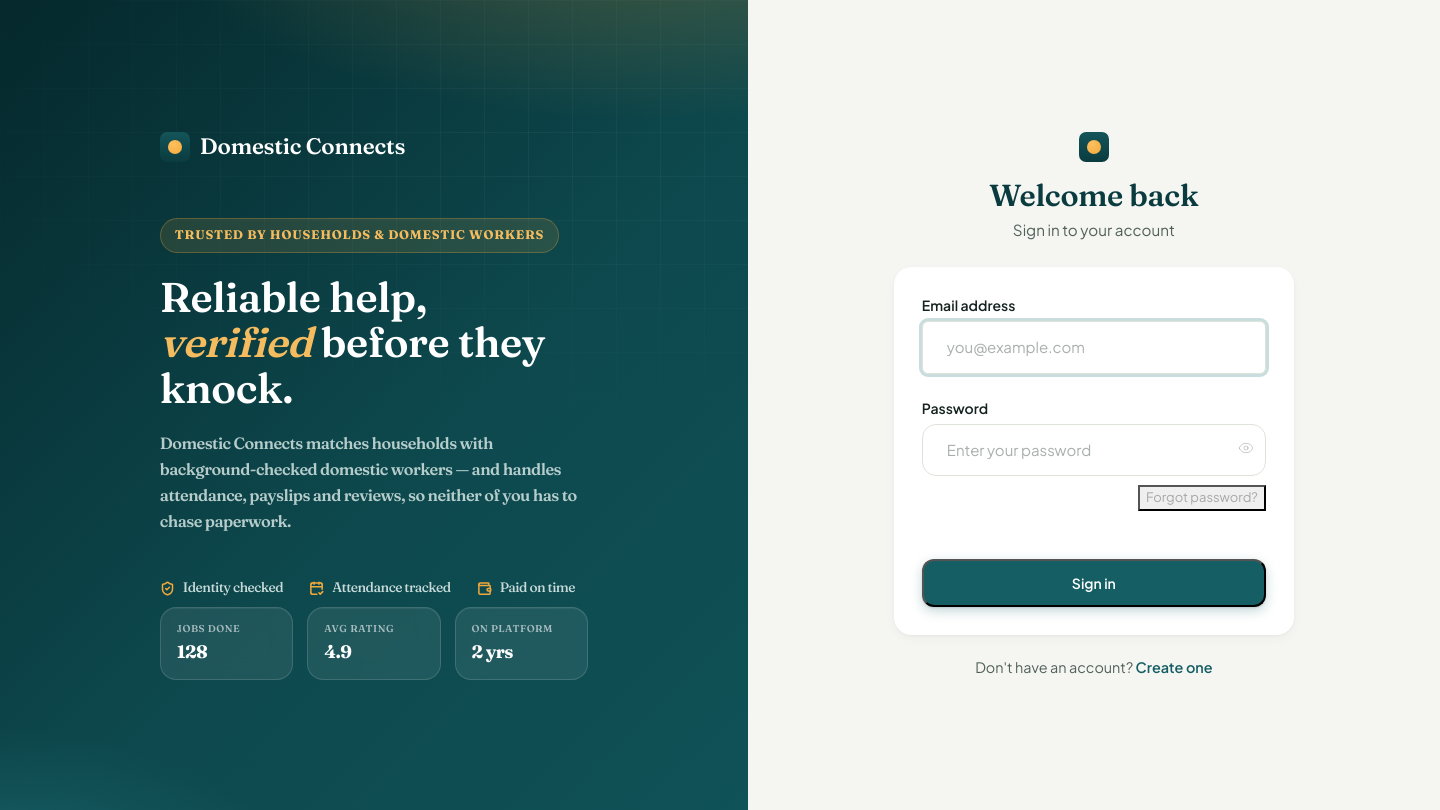
Test: Login › validation › clears a field error as soon as the user edits that field
Click the button "Sign in" at point(1094, 583), box [922,559,1266,607]
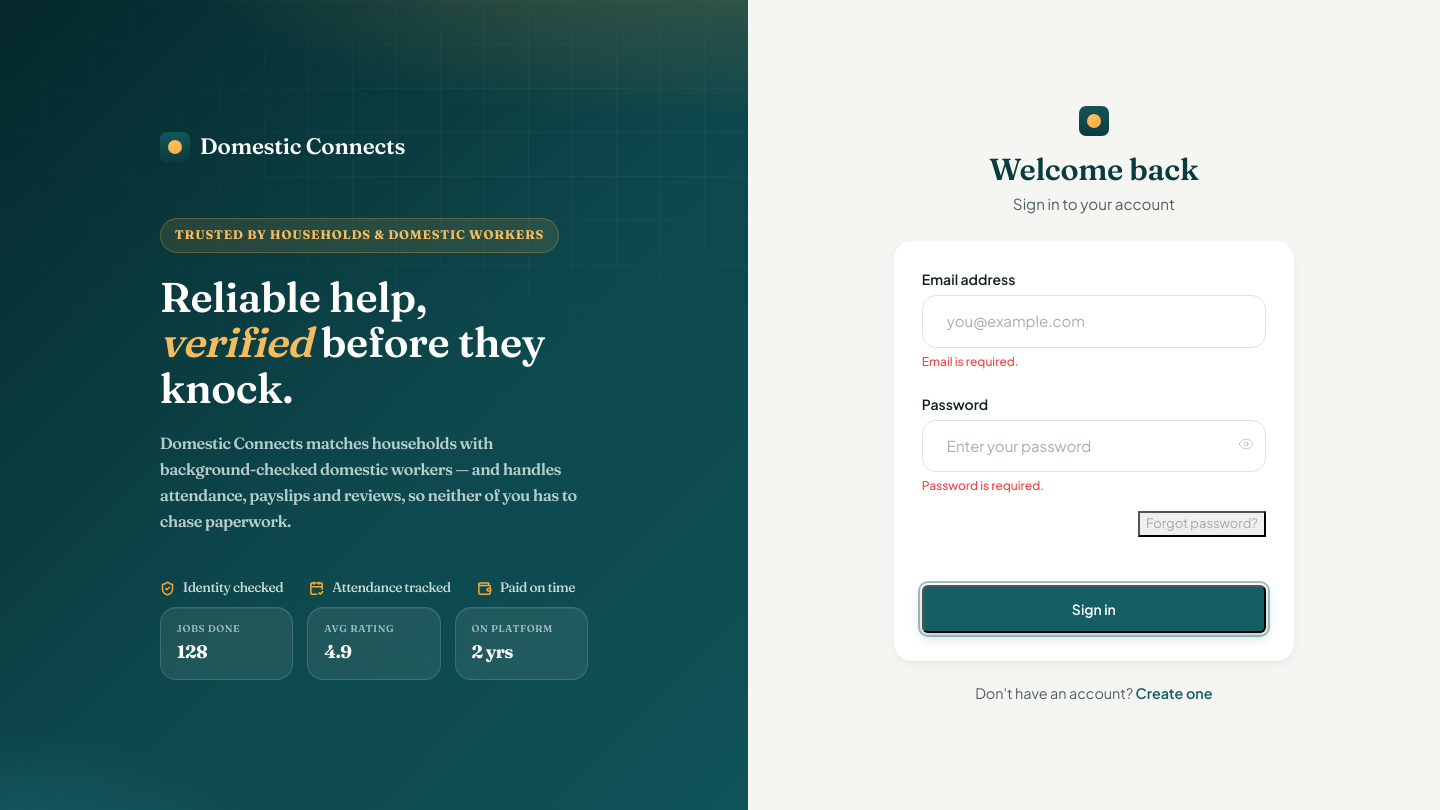
Result: the text "Email is required." is shown at [922,354,1019,369]
Type "a" into the field labelled "Email address" at point(1094, 322), box [922,295,1266,348]
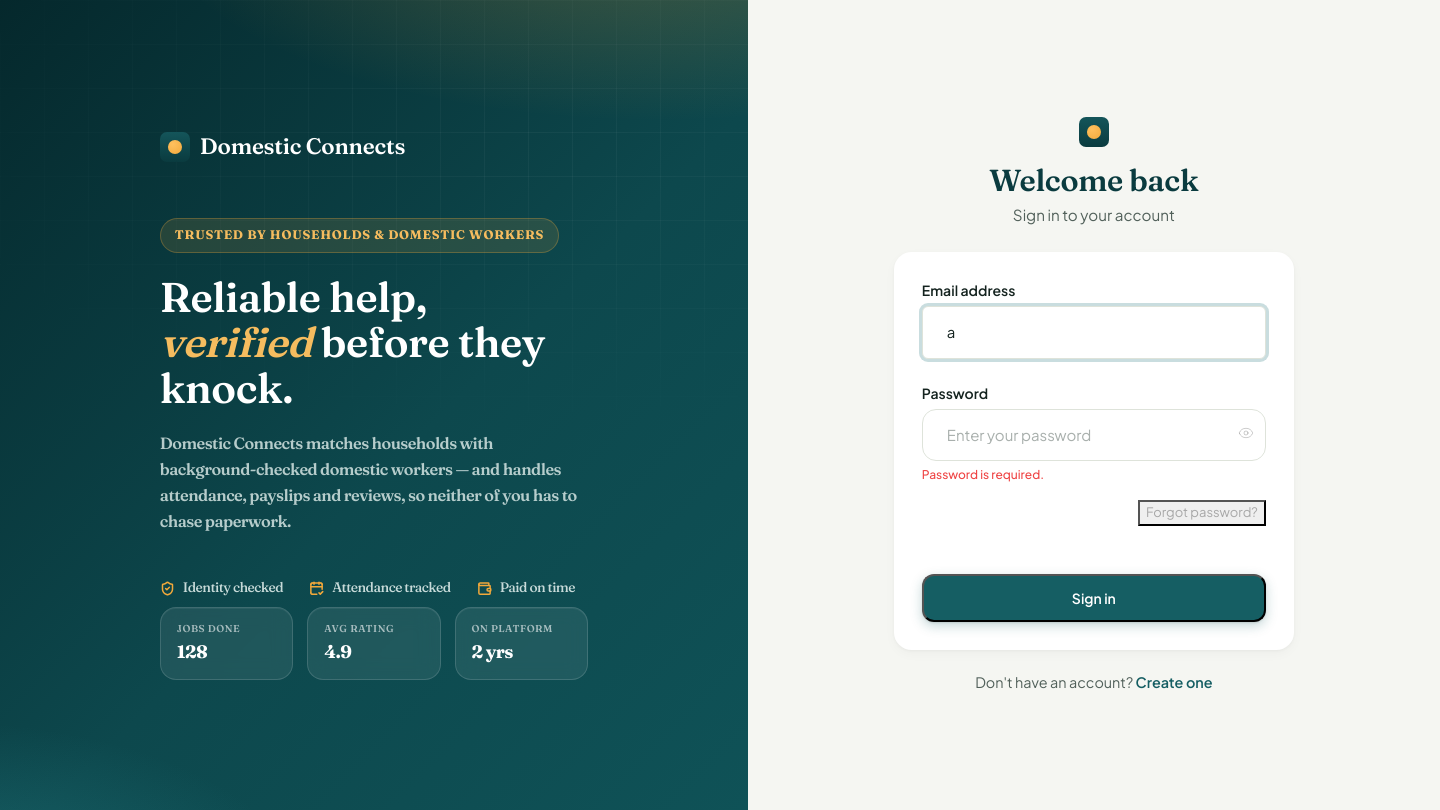
Result: the text "Email is required." is gone
